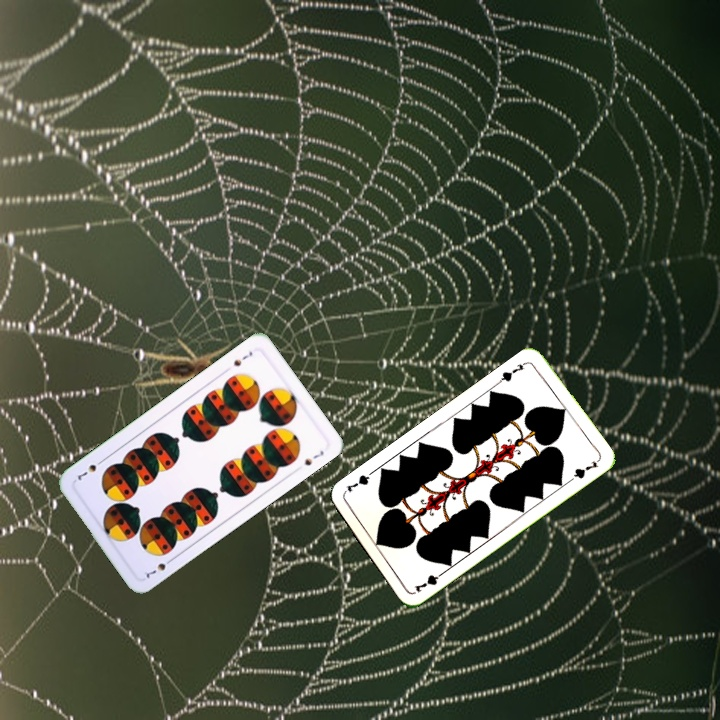G7: (410, 567, 448, 595), (495, 358, 530, 386)
S7: (142, 554, 176, 581), (229, 347, 255, 369)
